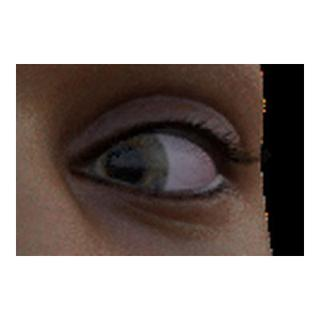pupil: (106, 148, 143, 185)
